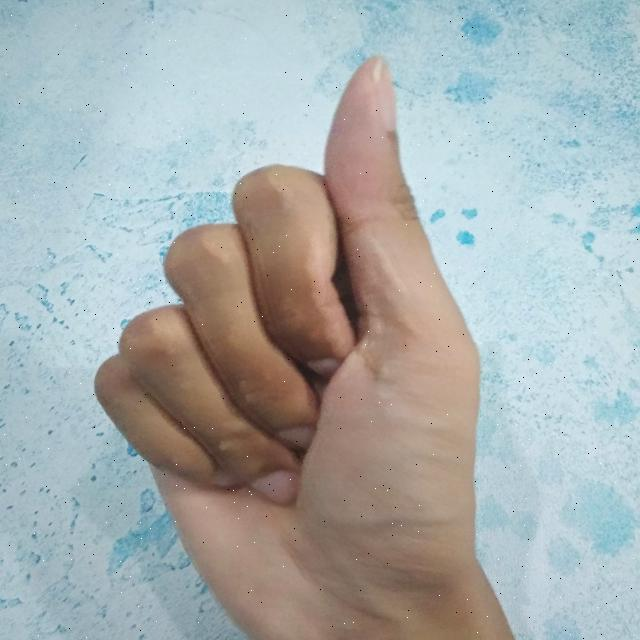A: (91, 40, 494, 640)
